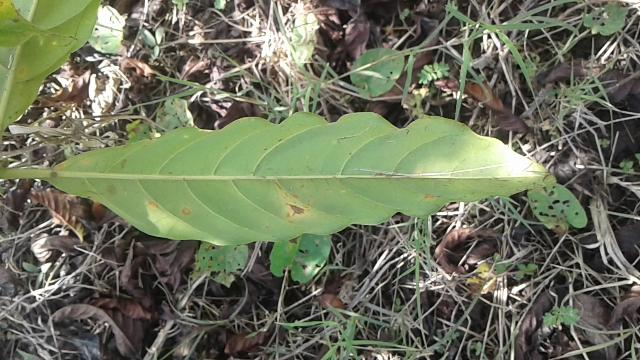rust_level_1: (44, 109, 561, 248)
